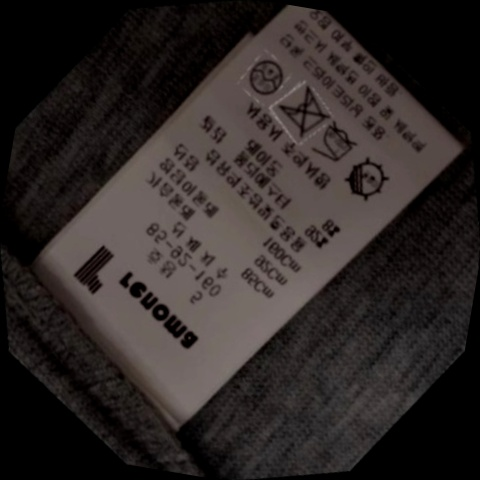DN_wash: (266, 79, 337, 145)
dry_clean_petrol_only: (236, 47, 293, 104)
iron_low: (304, 115, 367, 174)
line_dry_in_shade: (329, 149, 397, 211)
